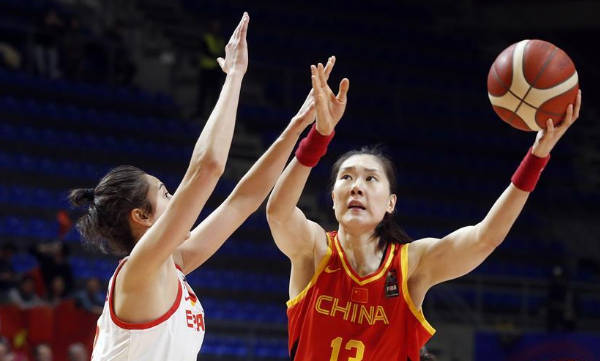ball: (487, 39, 580, 131)
